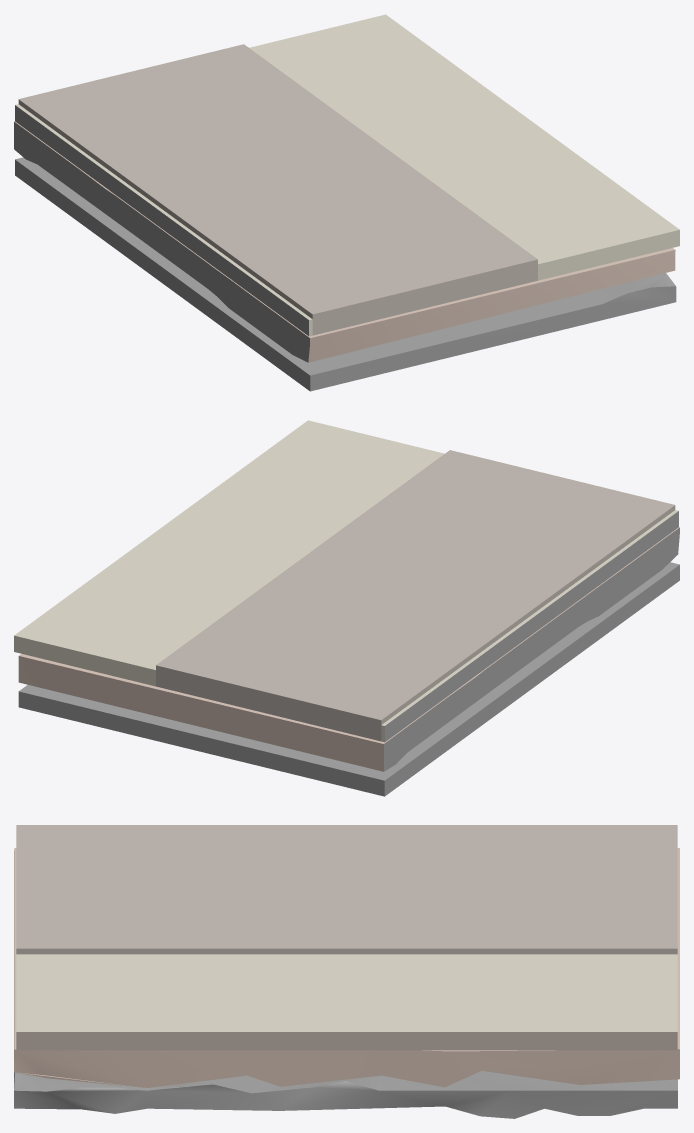
File: BaseGround.fbx
The picture shows the model from 3 angles, top to bottom: view 1: azimuth 30°, elevation 25°; view 2: azimuth 150°, elevation 25°; view 3: azimuth 270°, elevation 25°; orthographic projection. The views are drawn at different scales.
Parts seen in each view (by area): view 1: polySurface17; view 2: polySurface17; view 3: polySurface17.
Boxes of the visible parts, bbox=[...] form: polySurface17: bbox=[14, 14, 679, 391]; polySurface17: bbox=[14, 420, 679, 796]; polySurface17: bbox=[14, 825, 679, 1118].
Size of the model in its own units: 14.21 by 3.19 by 19.66.
